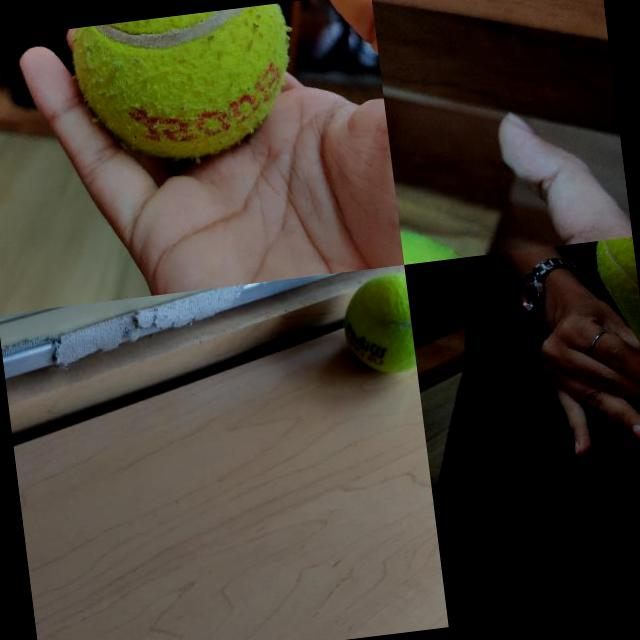Tennis Ball: (70, 2, 302, 169), (336, 270, 417, 379)
